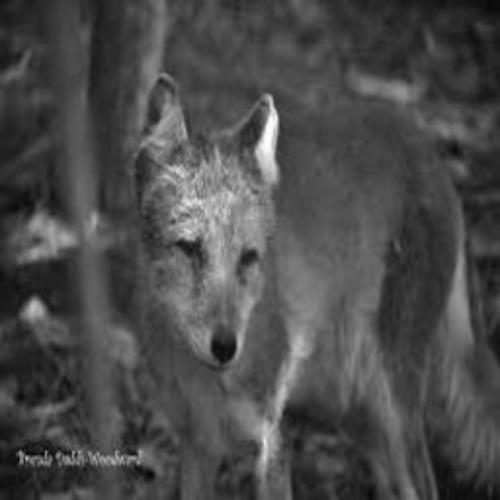arctic_fox-endangered: (130, 72, 492, 497)
